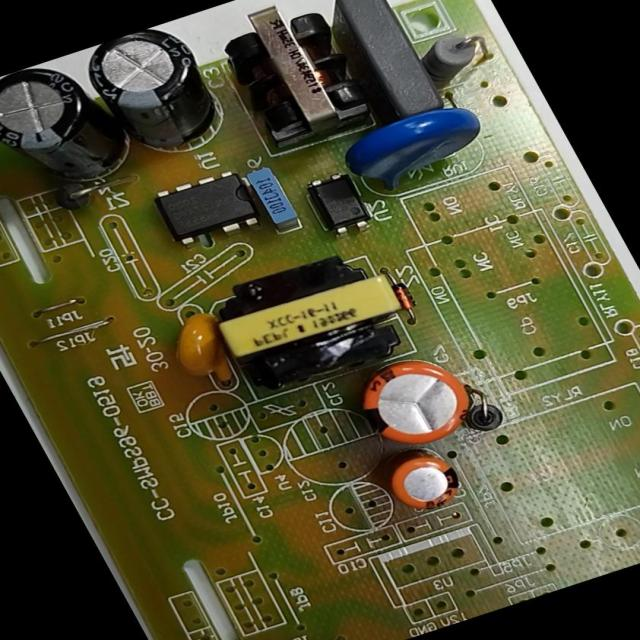Cap1: (333, 338, 497, 466)
Cap2: (360, 433, 491, 529)
Cap3: (63, 16, 252, 178)
Cap4: (0, 47, 163, 219)
MOSFET: (133, 154, 288, 265)
Mov: (323, 88, 513, 210)
Resistor: (404, 18, 511, 105)
Transformer: (188, 237, 435, 414), (194, 0, 400, 165)
